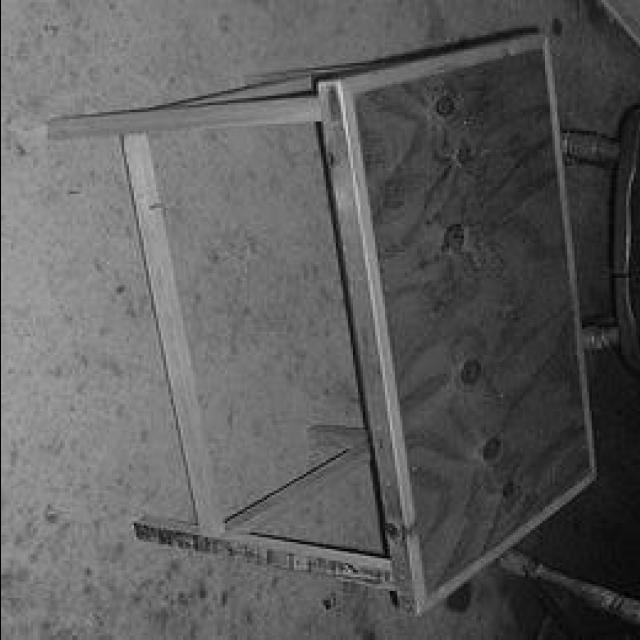table: (51, 28, 596, 614)
